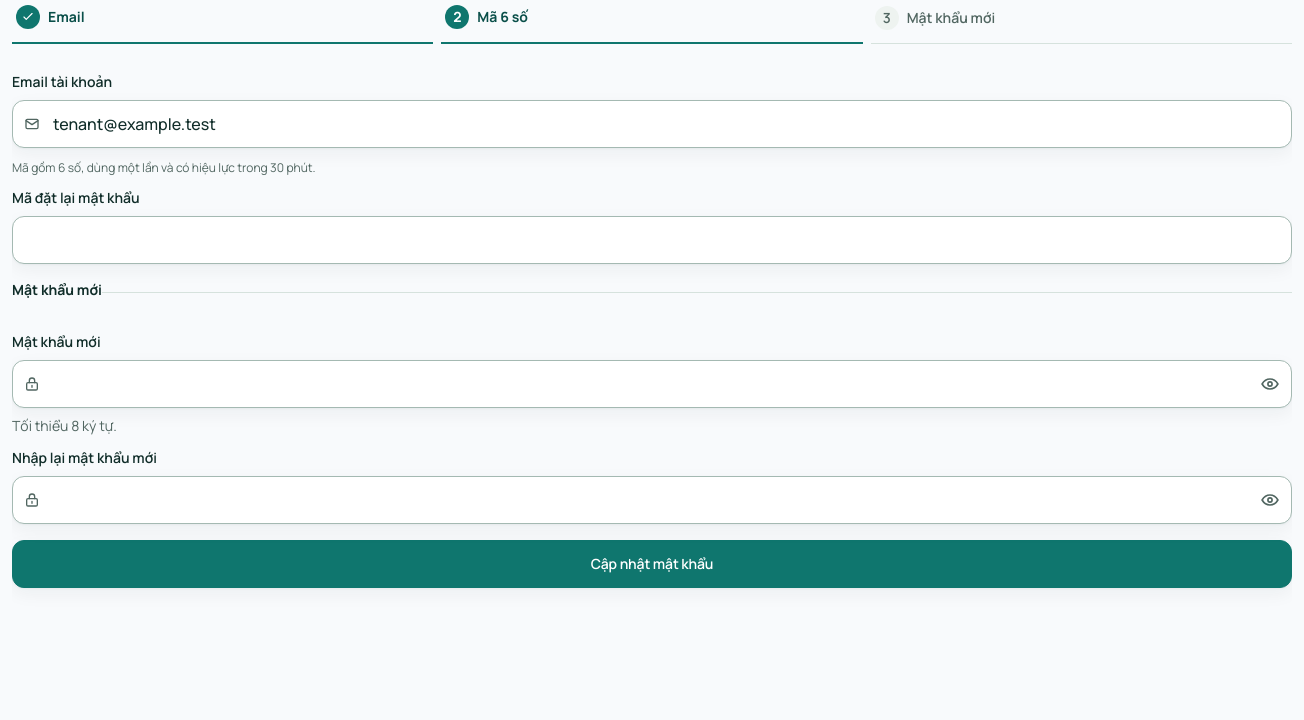
Test case: password reset six-digit OTP flow › accepts digits only and submits email, six-digit code, and the new password
Type "12a34b56" into the field named "Mã đặt lại mật khẩu (bắt buộc)" at {"x": 652, "y": 240}, box [12,216,1292,264]
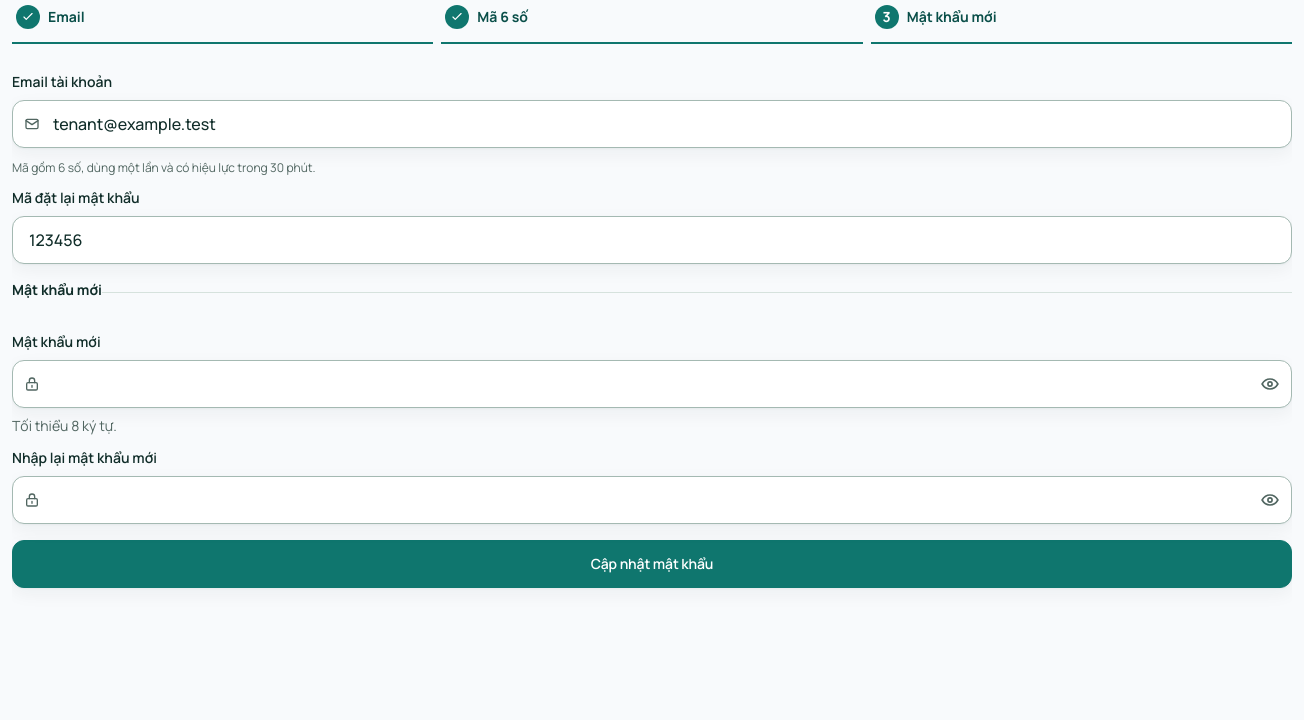
Now the field named "Mã đặt lại mật khẩu (bắt buộc)" holds "123456", box [12,216,1292,264]
Type "new-password" into the password field named "Mật khẩu mới (bắt buộc)" at {"x": 652, "y": 384}, box [12,360,1292,408]
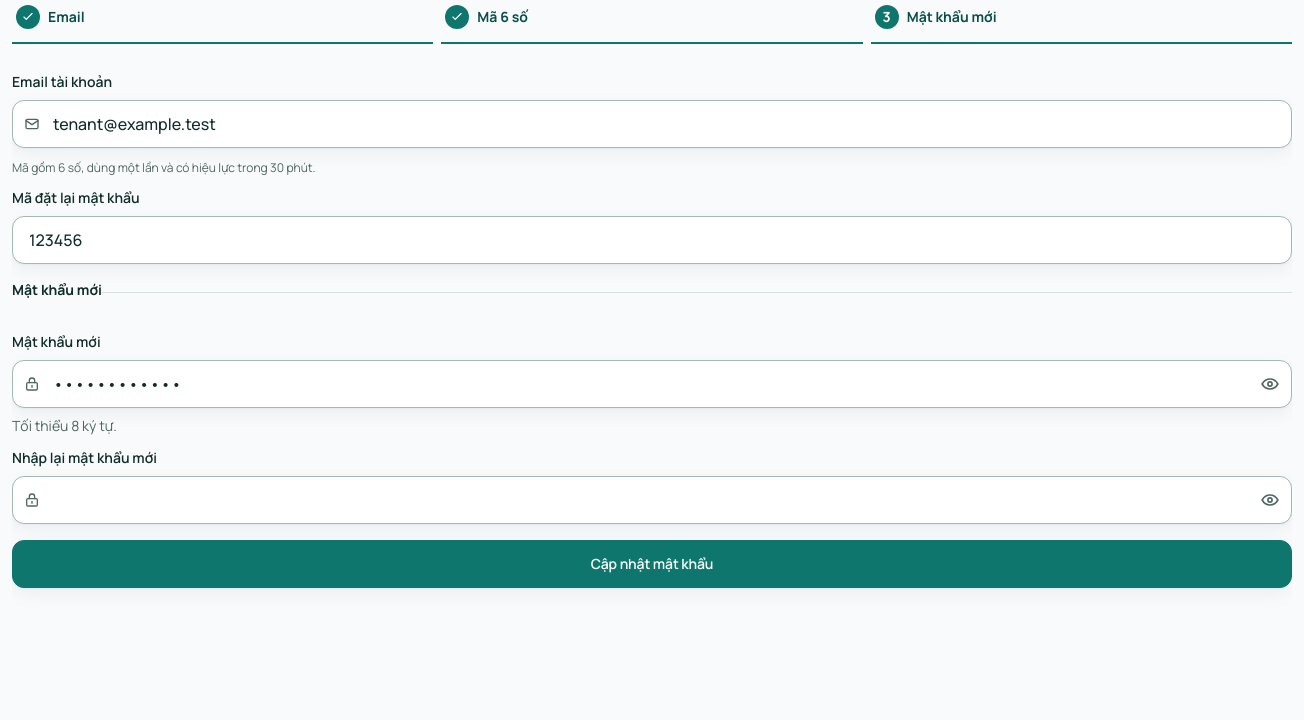
Type "new-password" into the password field named "Nhập lại mật khẩu mới (bắt buộc)" at {"x": 652, "y": 500}, box [12,476,1292,524]
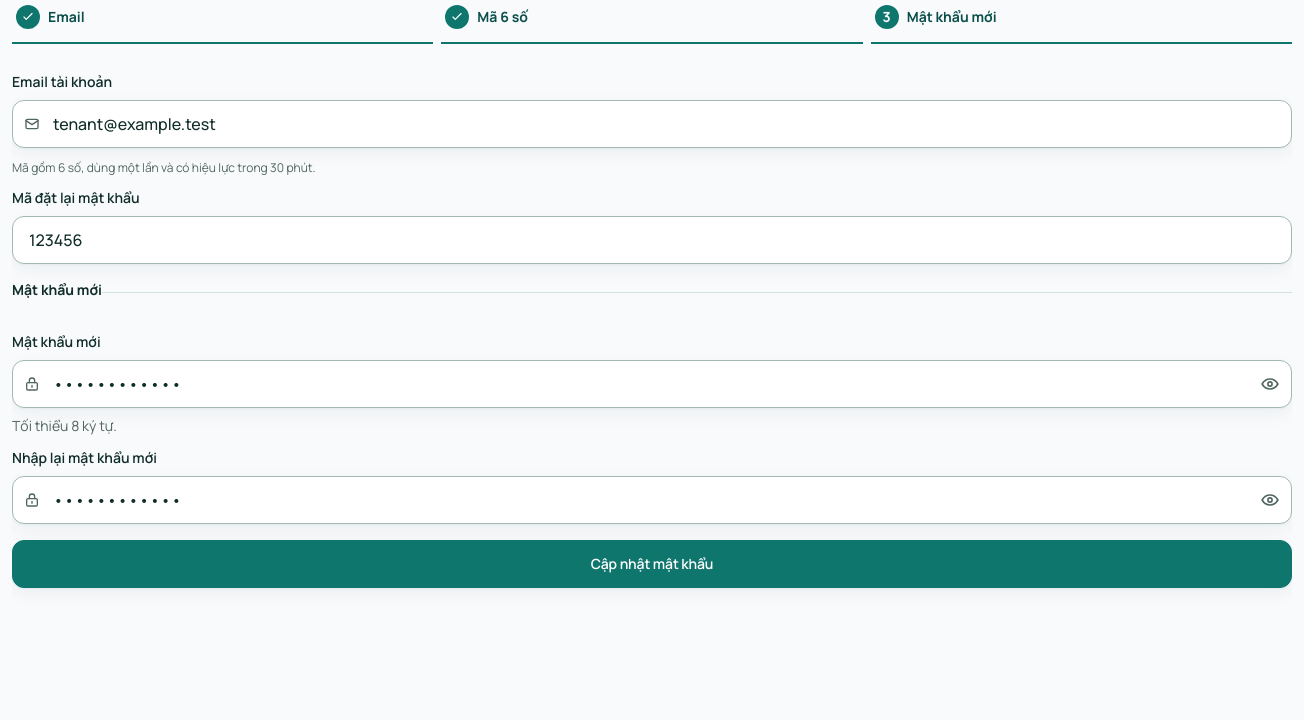
Click the button "Cập nhật mật khẩu" at {"x": 652, "y": 564}, box [12,540,1292,588]
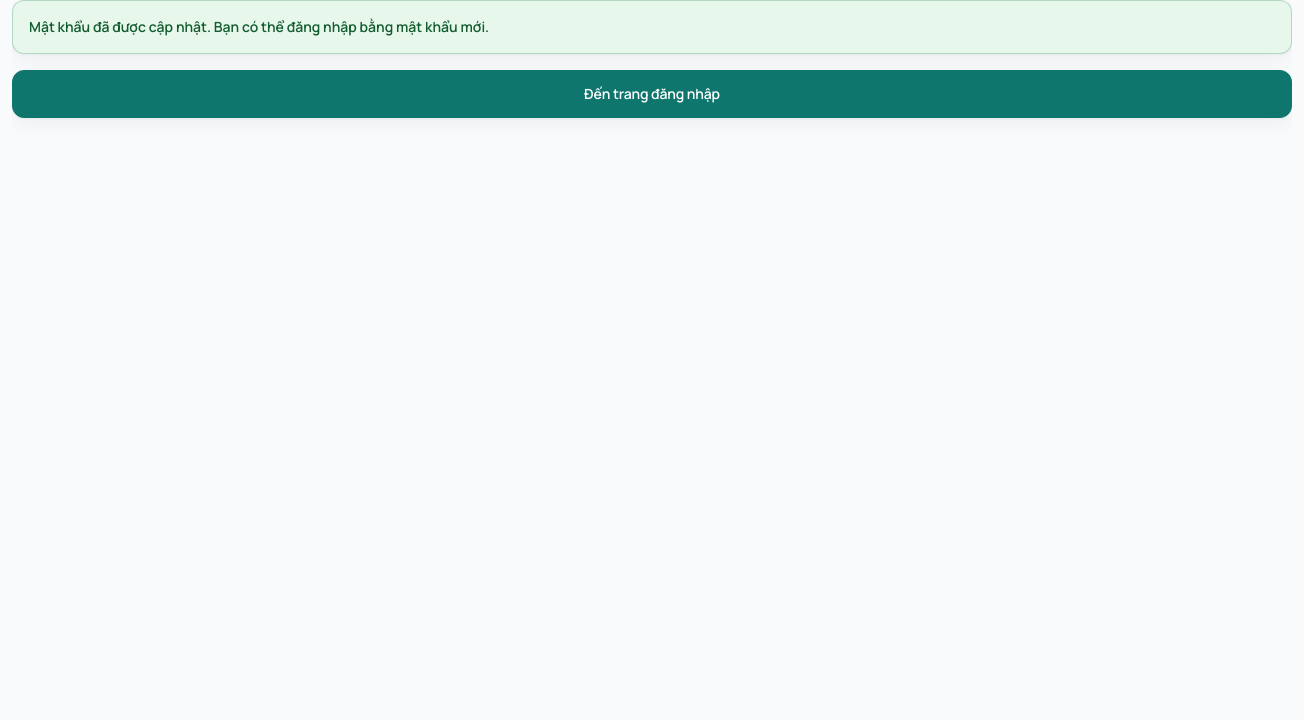
Now the message shows "Mật khẩu đã được cập nhật", box [29,17,489,36]
